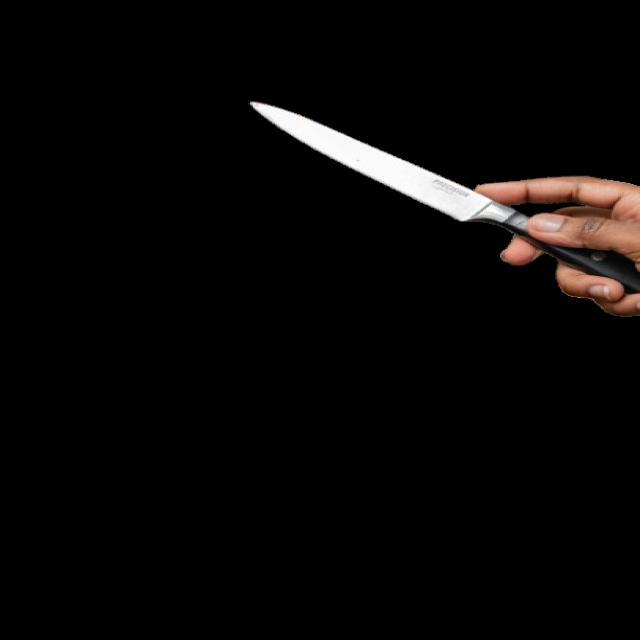knife: (252, 88, 627, 294)
